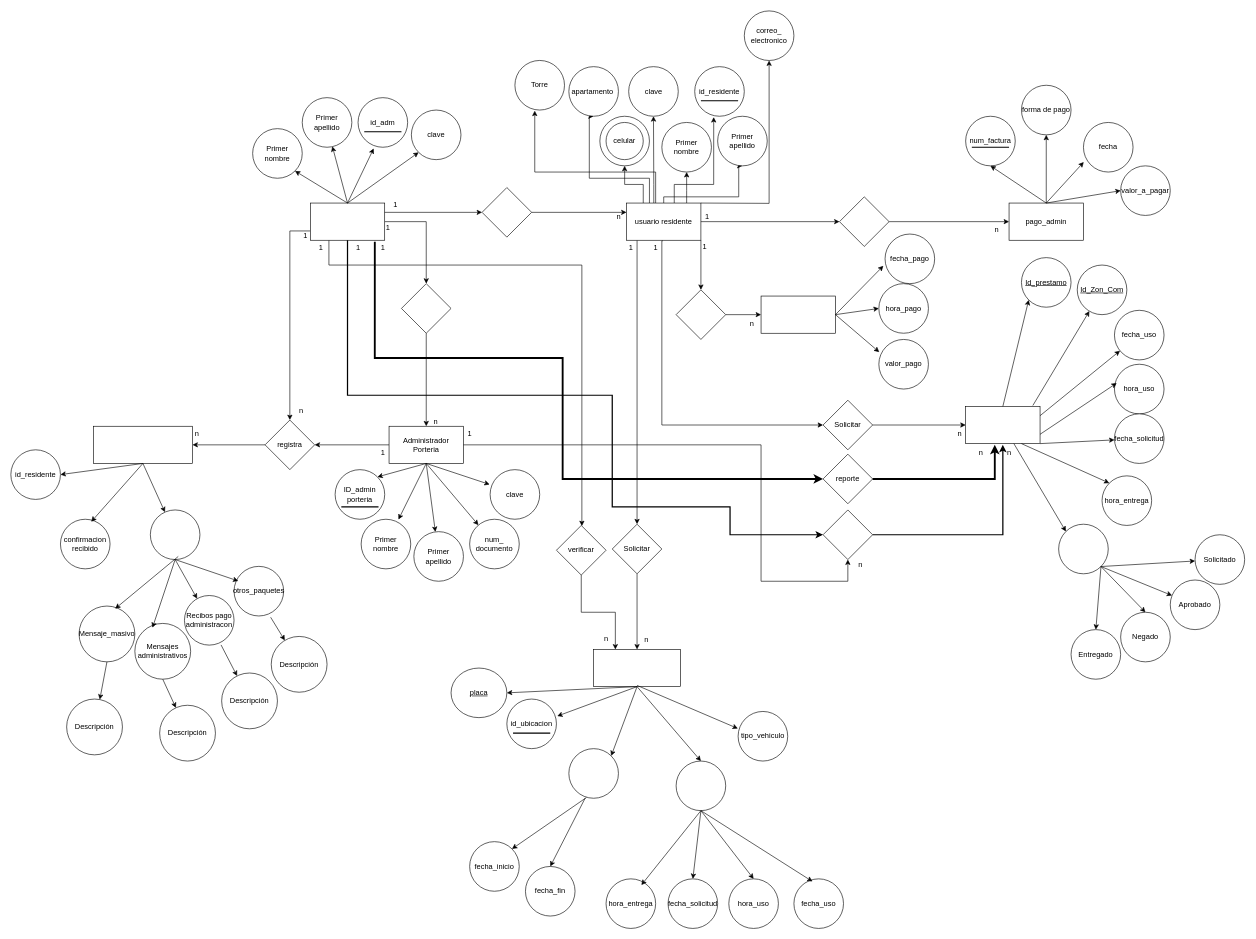
Some shapes in this 1256 by 939 pixel diagram are drawn without their labels. The shapes that lost their labels are listed below. From the top down, each one's centre as x and y in pixels, then its label:
At (x=347, y=221): "Administrador".
At (x=506, y=212): "Consultar".
At (x=864, y=221): "realiza".
At (x=426, y=308): "Asignar rol".
At (x=700, y=314): "Generar".
At (x=797, y=314): "Certificado de pagos".
At (x=143, y=444): "mensajeria".
At (x=1002, y=425): "Prestamo_Zon_Com".
At (x=175, y=534): "Tipo_mensaje".
At (x=847, y=534): "verifica".
At (x=1083, y=549): "Estado".
At (x=636, y=668): "Parqueadero".
At (x=593, y=773): "comunal".
At (x=700, y=785): "visitantes".
